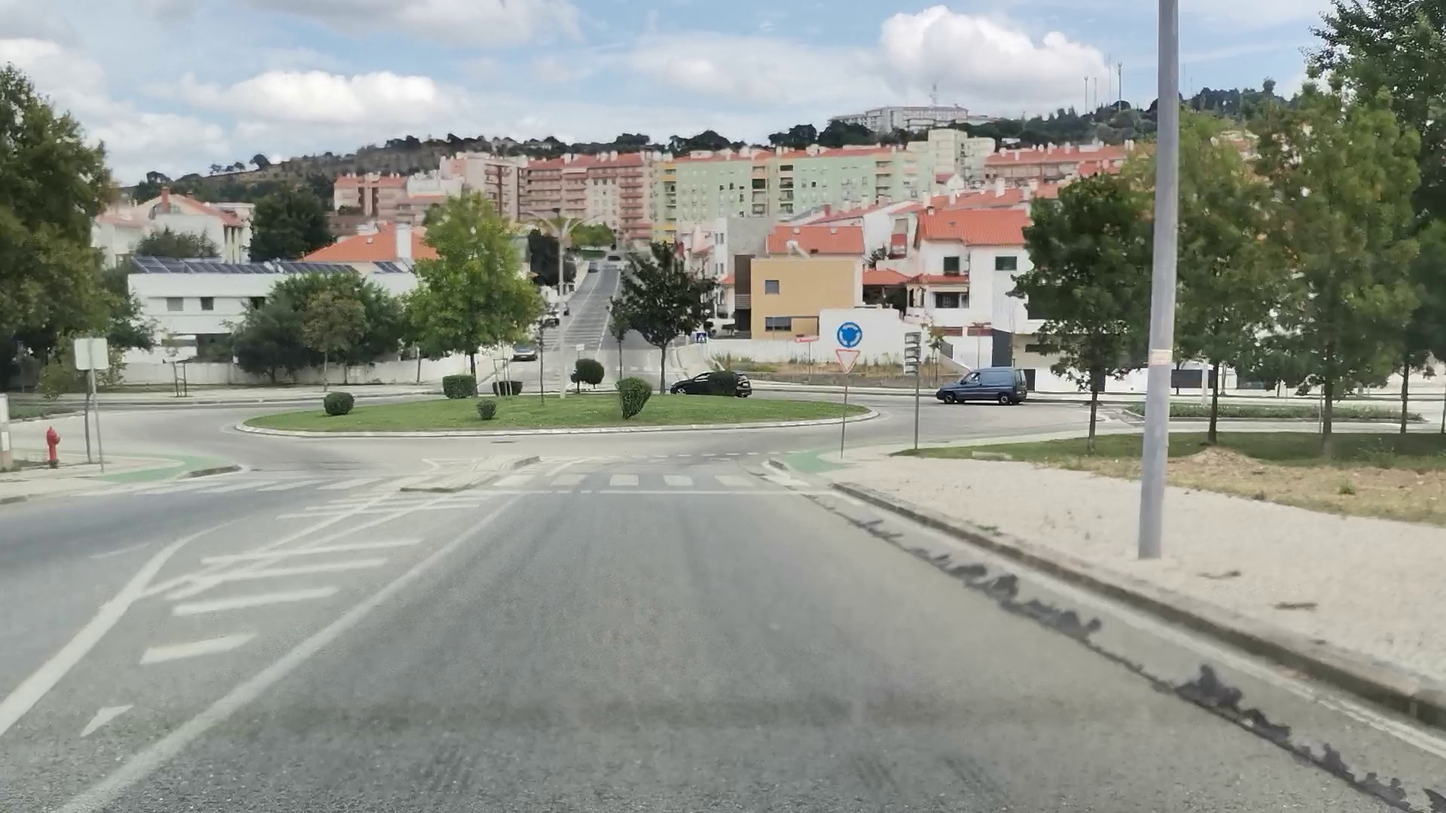Stairs: (506, 470, 808, 492), (104, 473, 389, 492)
